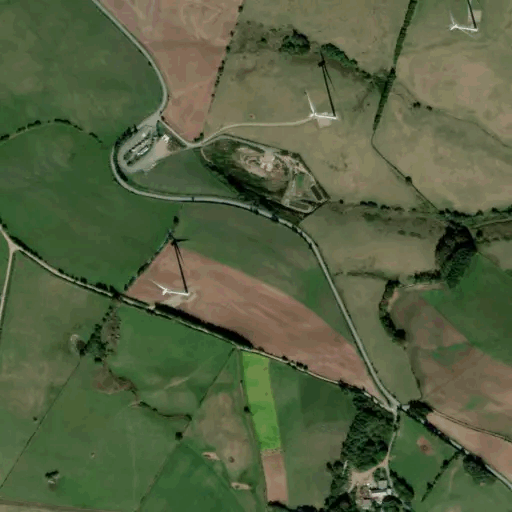wt: (147, 222, 193, 304), (301, 44, 340, 130), (440, 1, 482, 42)
